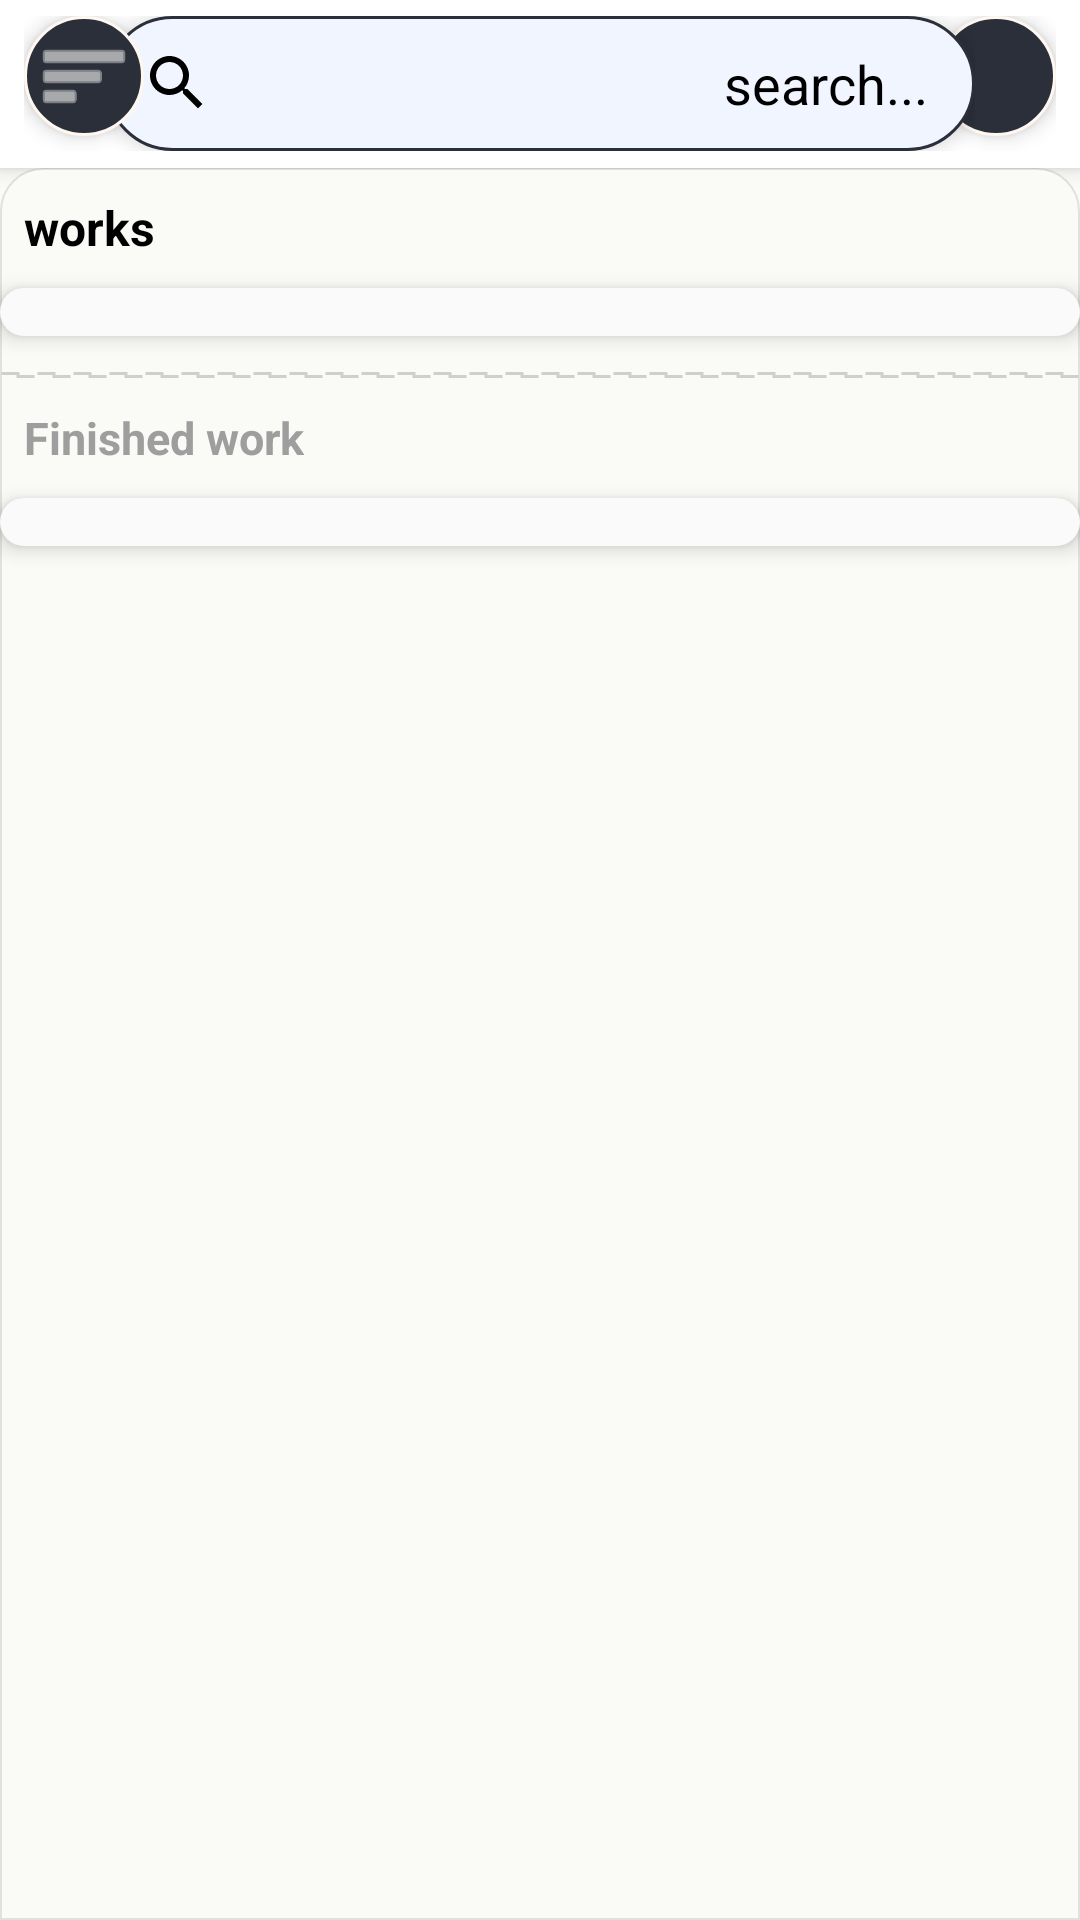

Locate icon controls on the screen. Image size 1080px x 1920px, boxes as (x1=x1, y1=y1, x2=x2, y2=y2).
sort by size: (x1=24, y1=19, x2=141, y2=136)
